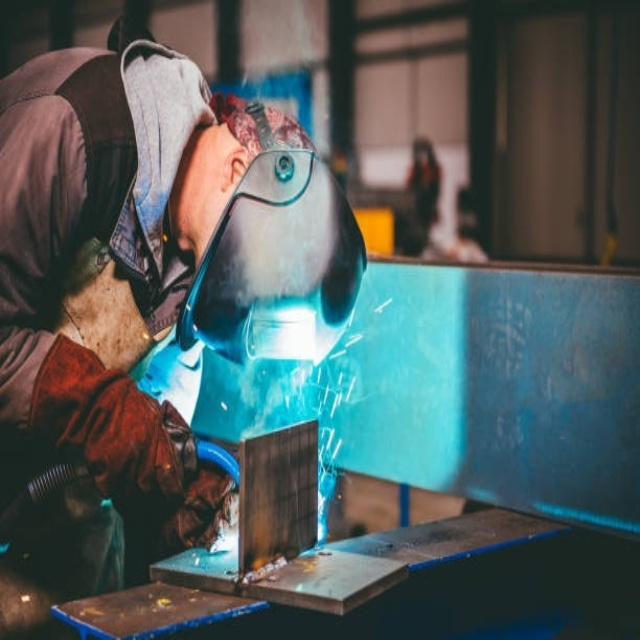Guantes: (23, 322, 236, 566)
